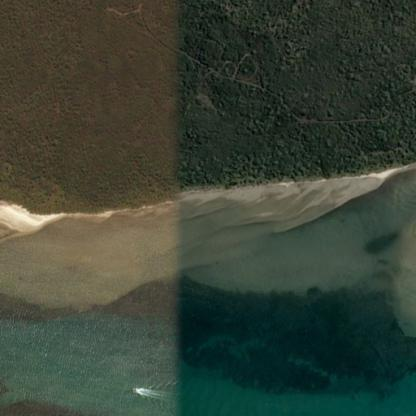ship: (131, 386, 135, 391)
